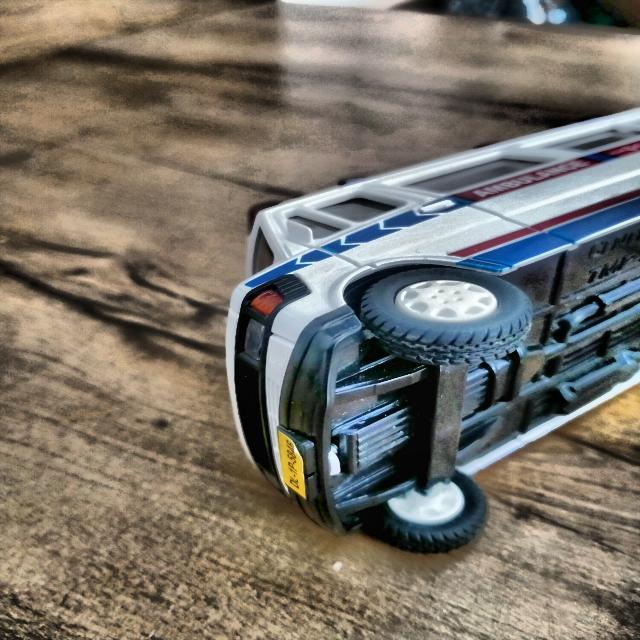Ambulance: (192, 112, 640, 557)
